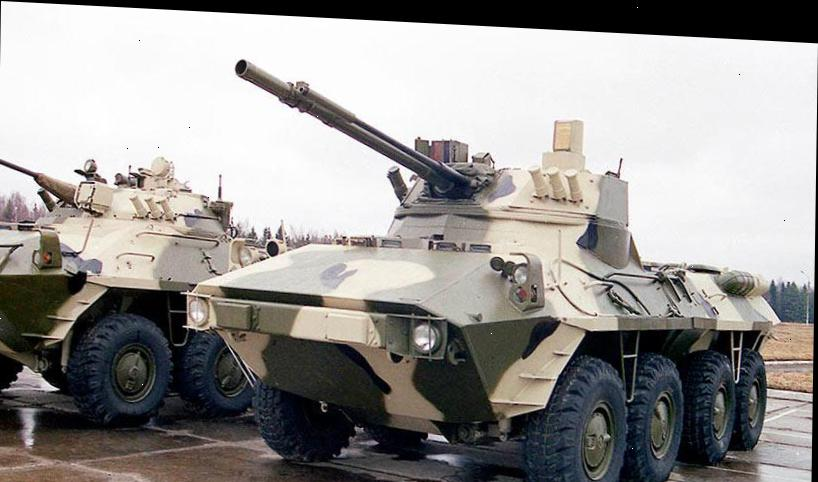tank: (179, 55, 784, 482), (0, 139, 293, 436)
